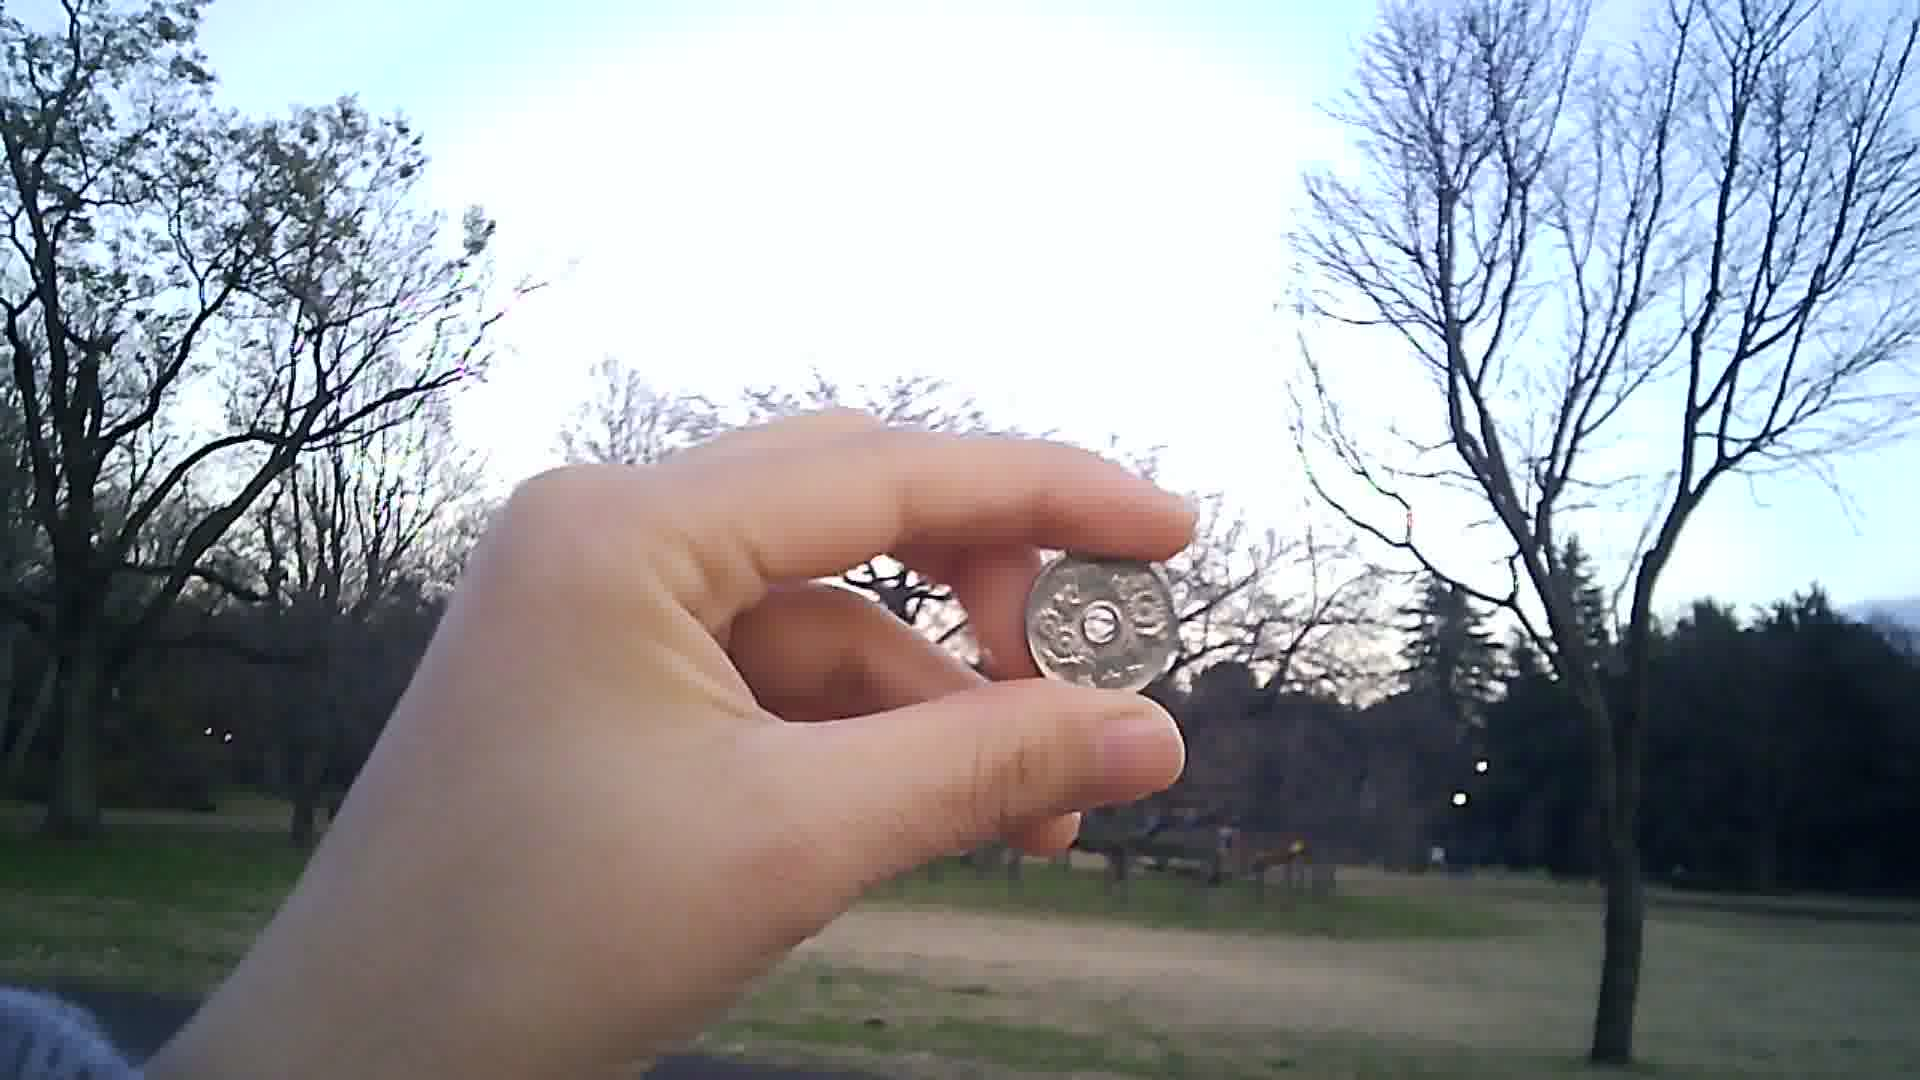50 Yen: (1025, 527, 1188, 702)
